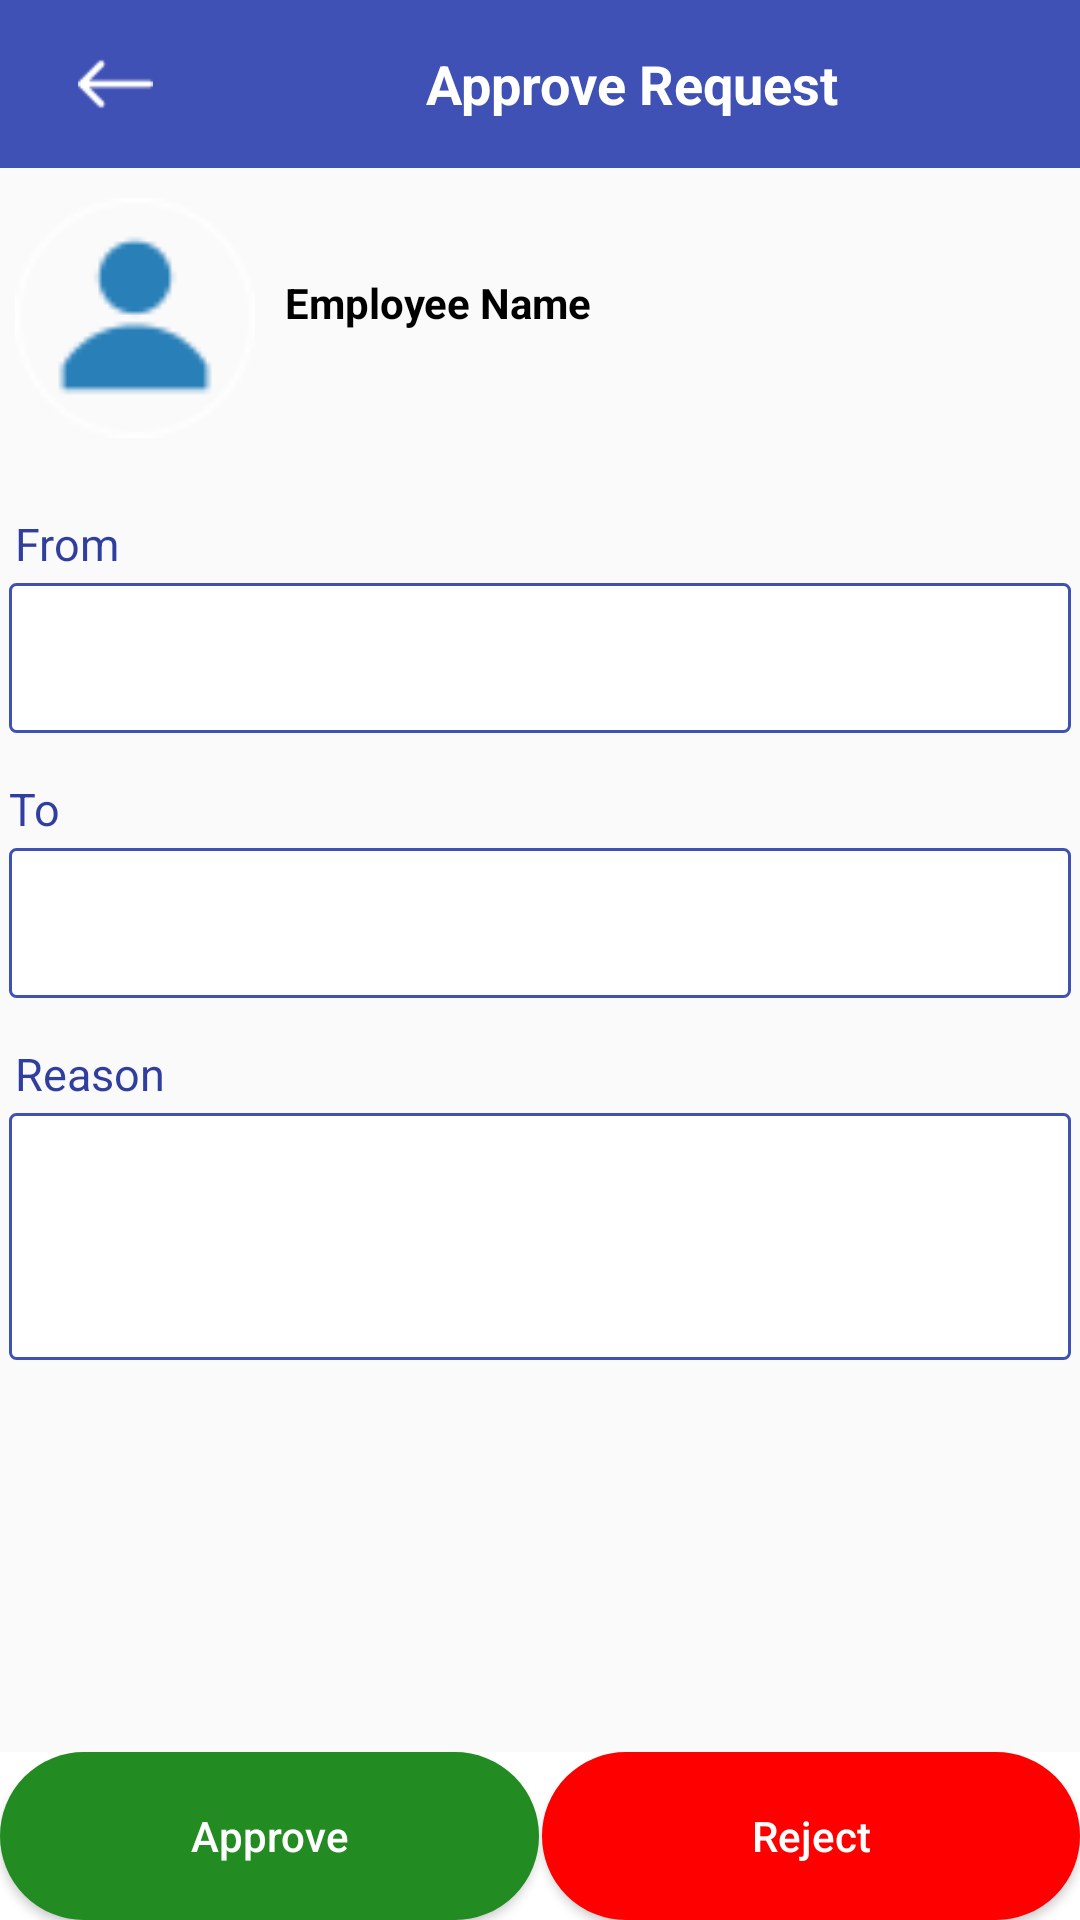

Screen size 1080x1920. Icon name, then its center in pixels as [x,y]:
back: [115,84]
person: [135,315]
